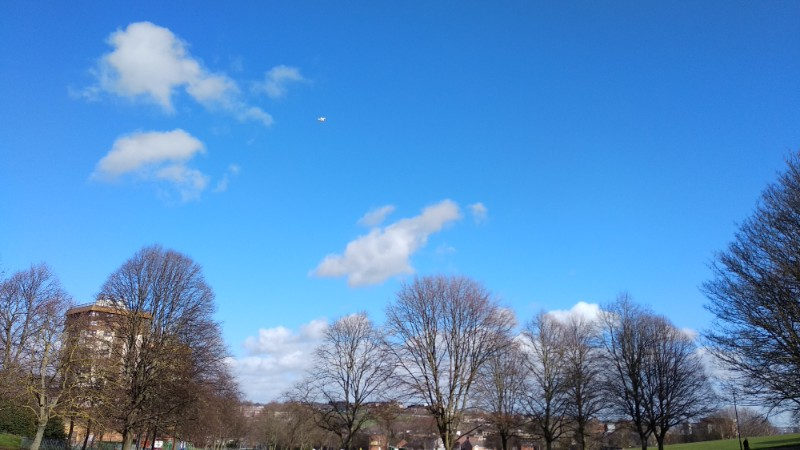drone: (317, 115, 327, 123)
